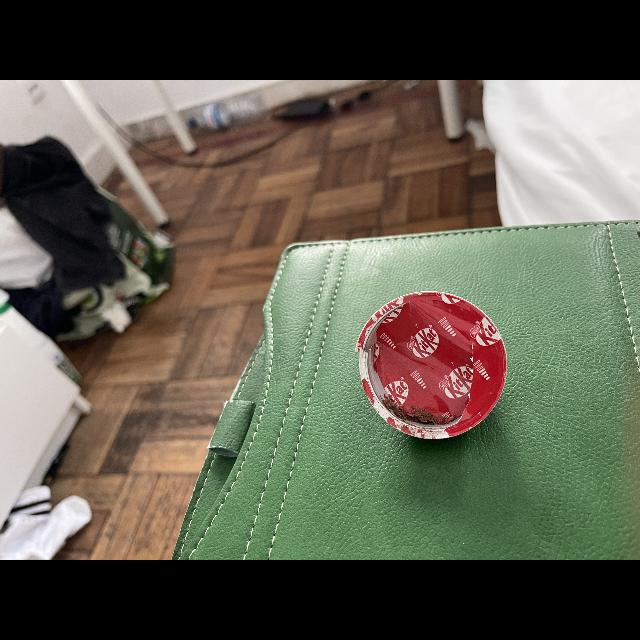damaged_capsule: (356, 293, 522, 447)
